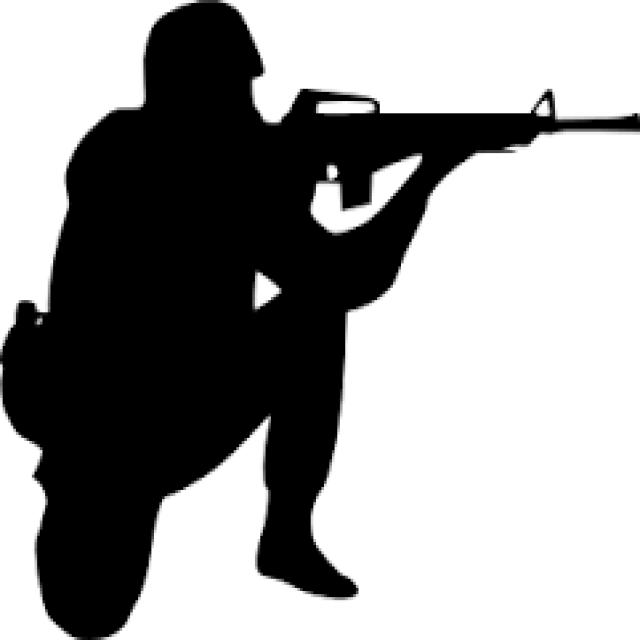soldier: (1, 1, 640, 638)
